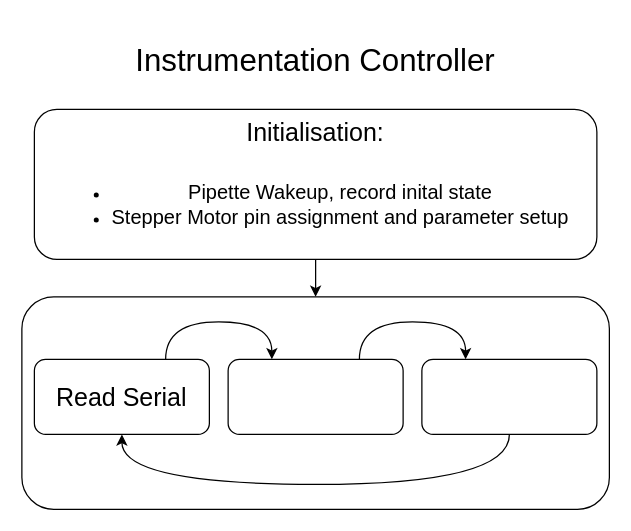
This 631x531 diagram has some shape labels left out. Here are the shapes that lost their labels. From the top down, the box of each, then its label:
(227, 358, 403, 434): Parse CMD {Single or Sequence}
(421, 358, 597, 434): Execute
